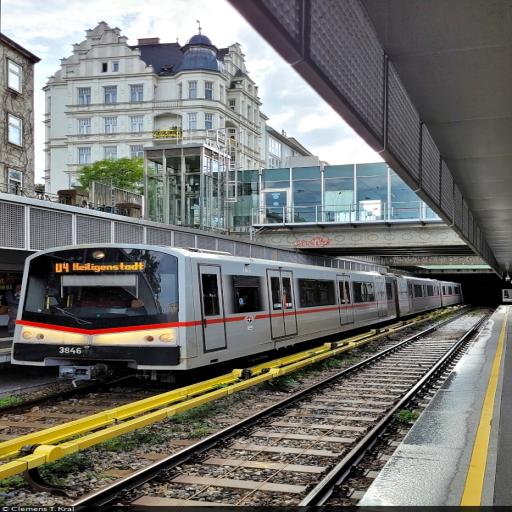V-Wagen: (13, 238, 463, 369)
